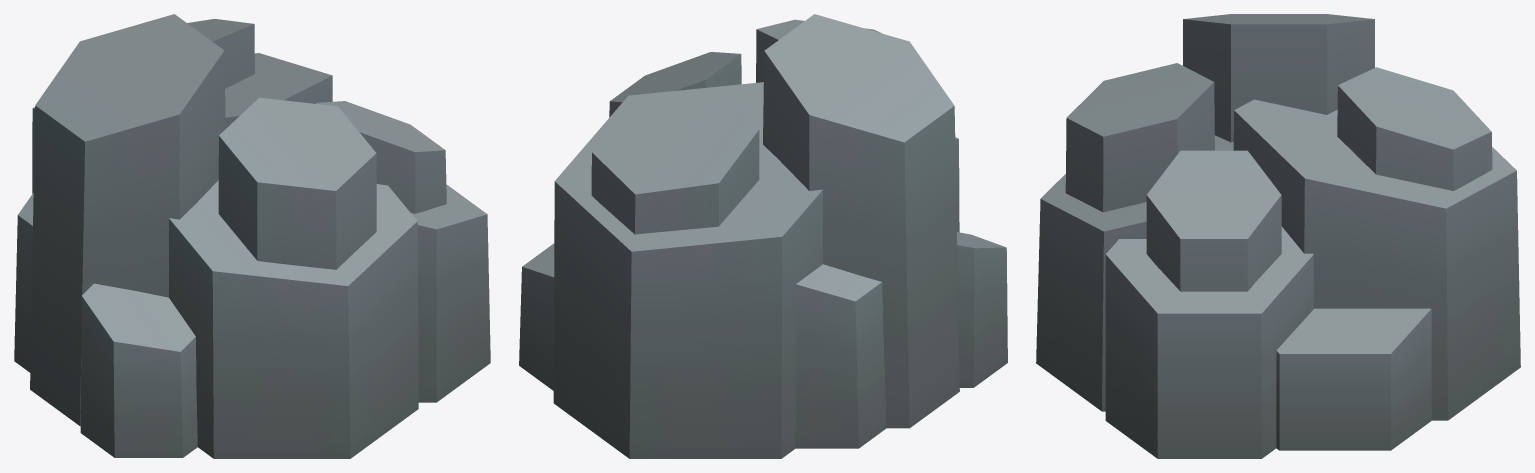
Rendered from mountain-c.glb.
3 renders of one model, left to right at view 1: azimuth 30°, elevation 25°; view 2: azimuth 150°, elevation 25°; view 3: azimuth 270°, elevation 25°, orthographic. The views are drawn at different scales.
Parts seen in each view (by area): view 1: mountain_C; view 2: mountain_C; view 3: mountain_C.
Part boxes in pixels (<box>): mountain_C: <box>14,14,490,458</box>; mountain_C: <box>519,14,1007,458</box>; mountain_C: <box>1036,14,1520,458</box>.
Bounding box in the file's own units: 1.76 × 1.51 × 2.02.
Materials: 1 (1 with a texture image).
